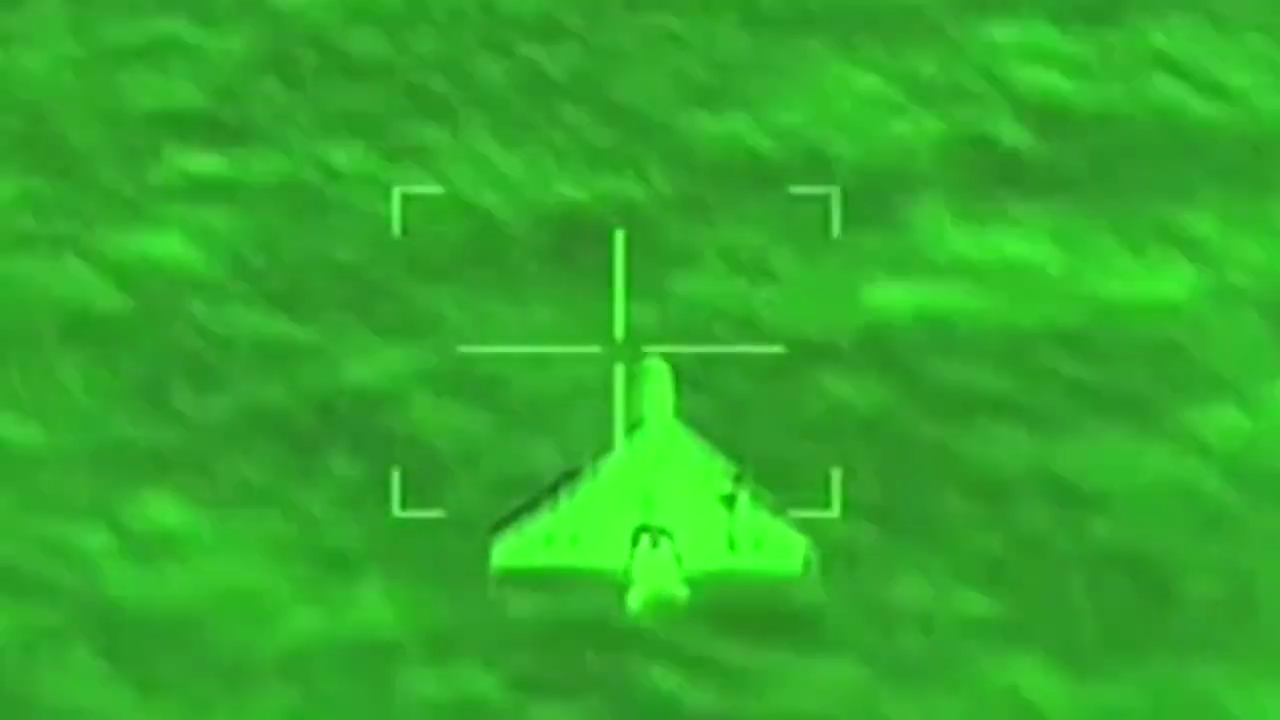shahed: (483, 355, 815, 616)
